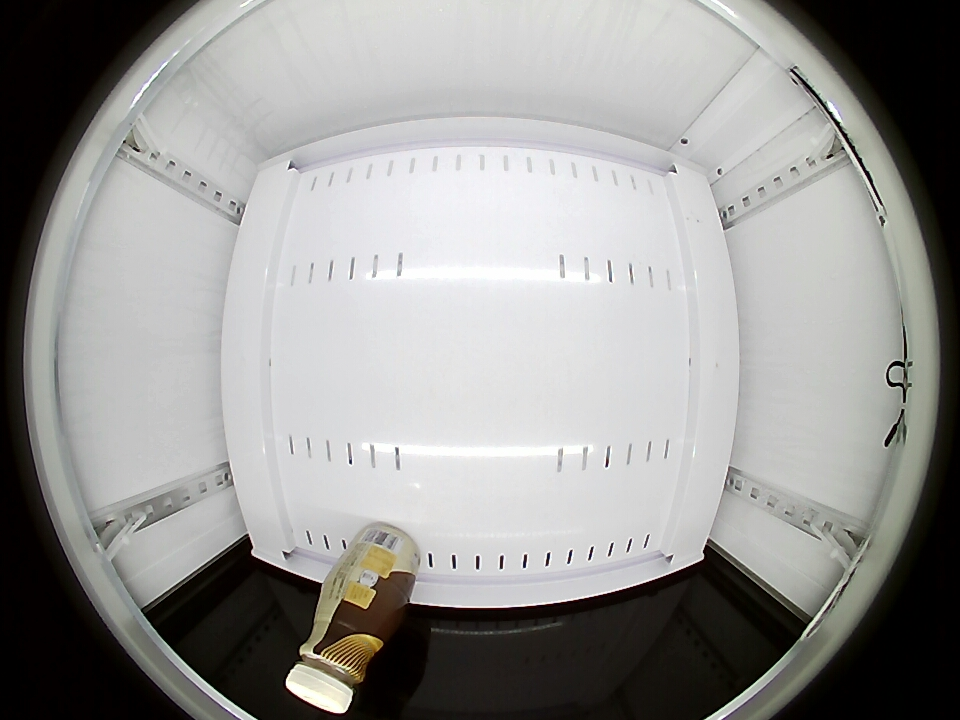kafei: (287, 600, 389, 714)
